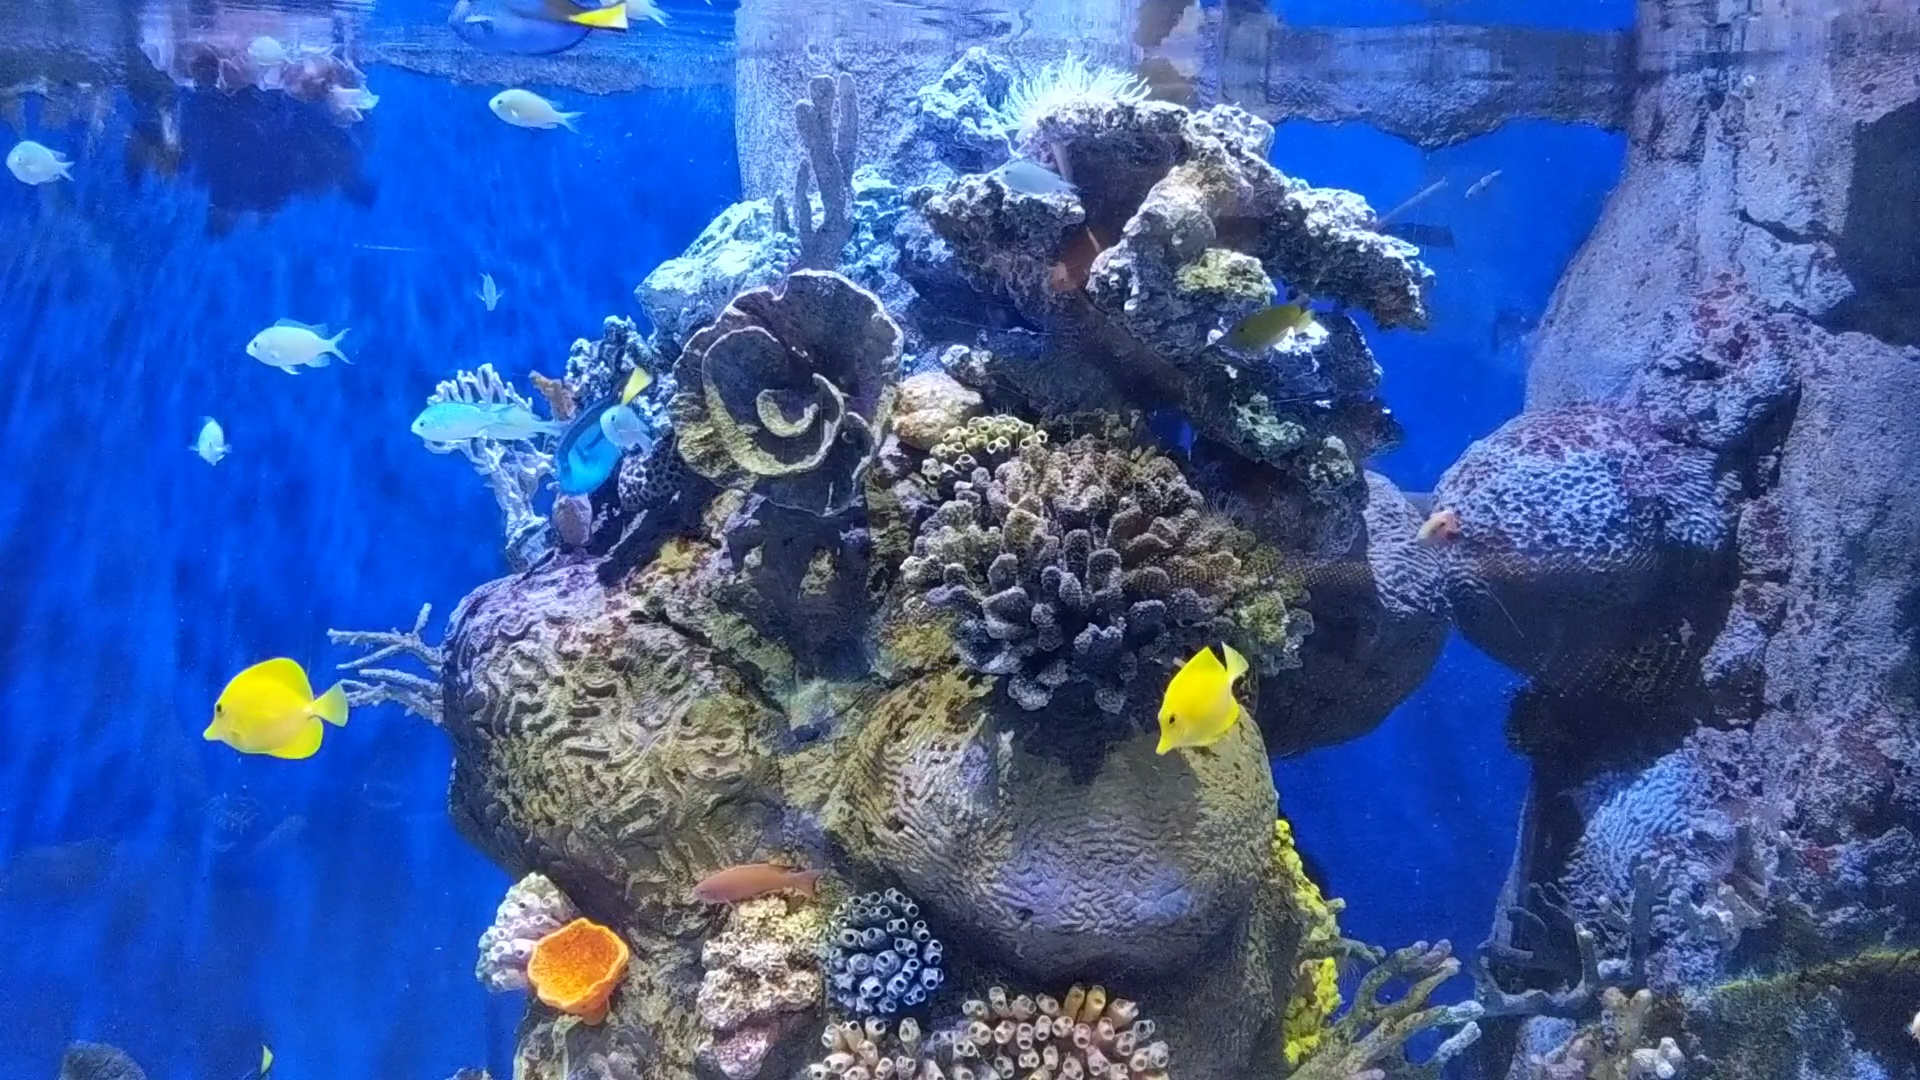blue tang surgeonfish: (535, 357, 658, 510)
damselfish: (225, 302, 349, 390), (473, 69, 585, 153), (398, 390, 512, 450), (9, 131, 67, 195)
saddle butterfly fish: (189, 651, 363, 771), (1129, 628, 1251, 762)
